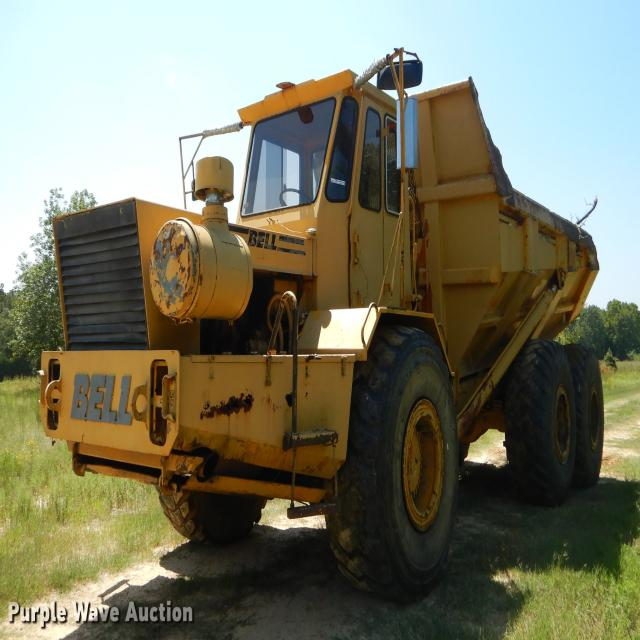dump_truck: (40, 48, 612, 593)
